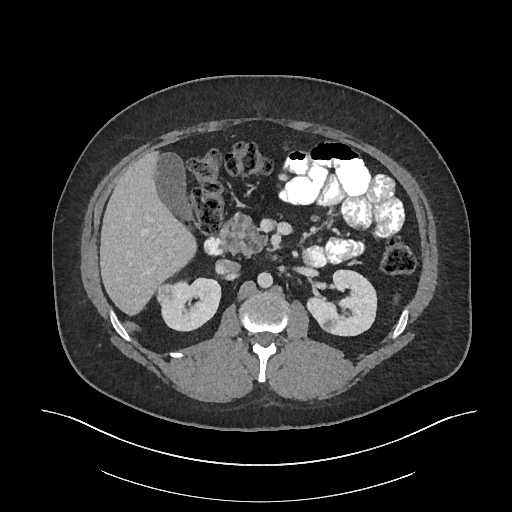Lesion: (322, 315, 339, 335)
